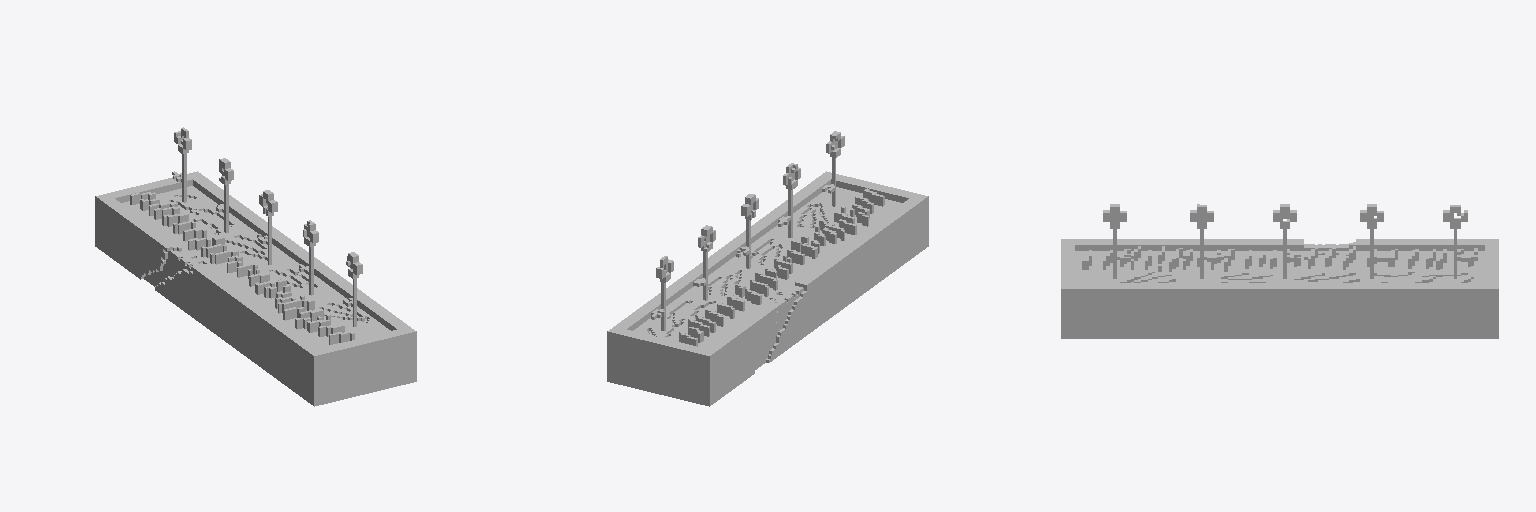
Rendered from plantinhasMortas.obj.
The picture shows the model from 3 angles: view 1: azimuth 30°, elevation 25°; view 2: azimuth 150°, elevation 25°; view 3: azimuth 270°, elevation 25°; orthographic projection.
Parts seen in each view (by area): view 1: object 1; view 2: object 1; view 3: object 1.
Part boxes in pixels (bbox=[...]): object 1: bbox=[95, 127, 416, 406]; object 1: bbox=[607, 131, 928, 406]; object 1: bbox=[1061, 204, 1498, 338].
Bounding box in the file's own units: 3.4 × 3.7 × 12.6.